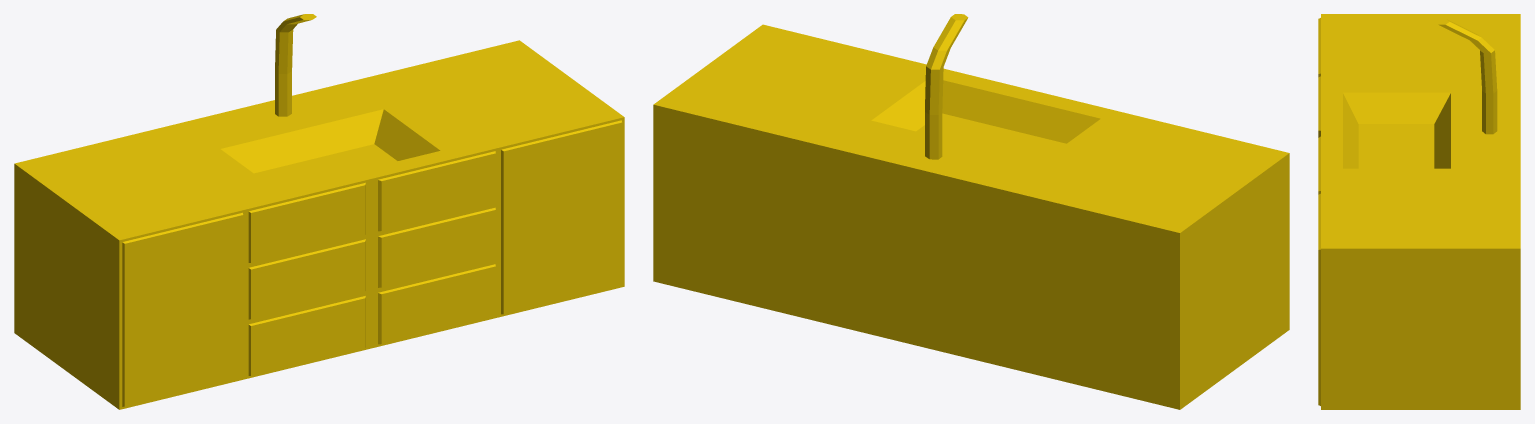
File: Kitchen_Counter_4.FBX
3 renders of one model, left to right at view 1: azimuth 30°, elevation 25°; view 2: azimuth 150°, elevation 25°; view 3: azimuth 270°, elevation 25°, orthographic. The views are drawn at different scales.
Parts seen in each view (by area): view 1: Object001; view 2: Object001; view 3: Object001.
Part boxes in pixels (x1=…): Object001: x1=14, y1=14, x2=624, y2=409; Object001: x1=653, y1=14, x2=1289, y2=409; Object001: x1=1318, y1=14, x2=1520, y2=409.
Bounding box in the file's own units: 4.14 × 2.23 × 1.51.
